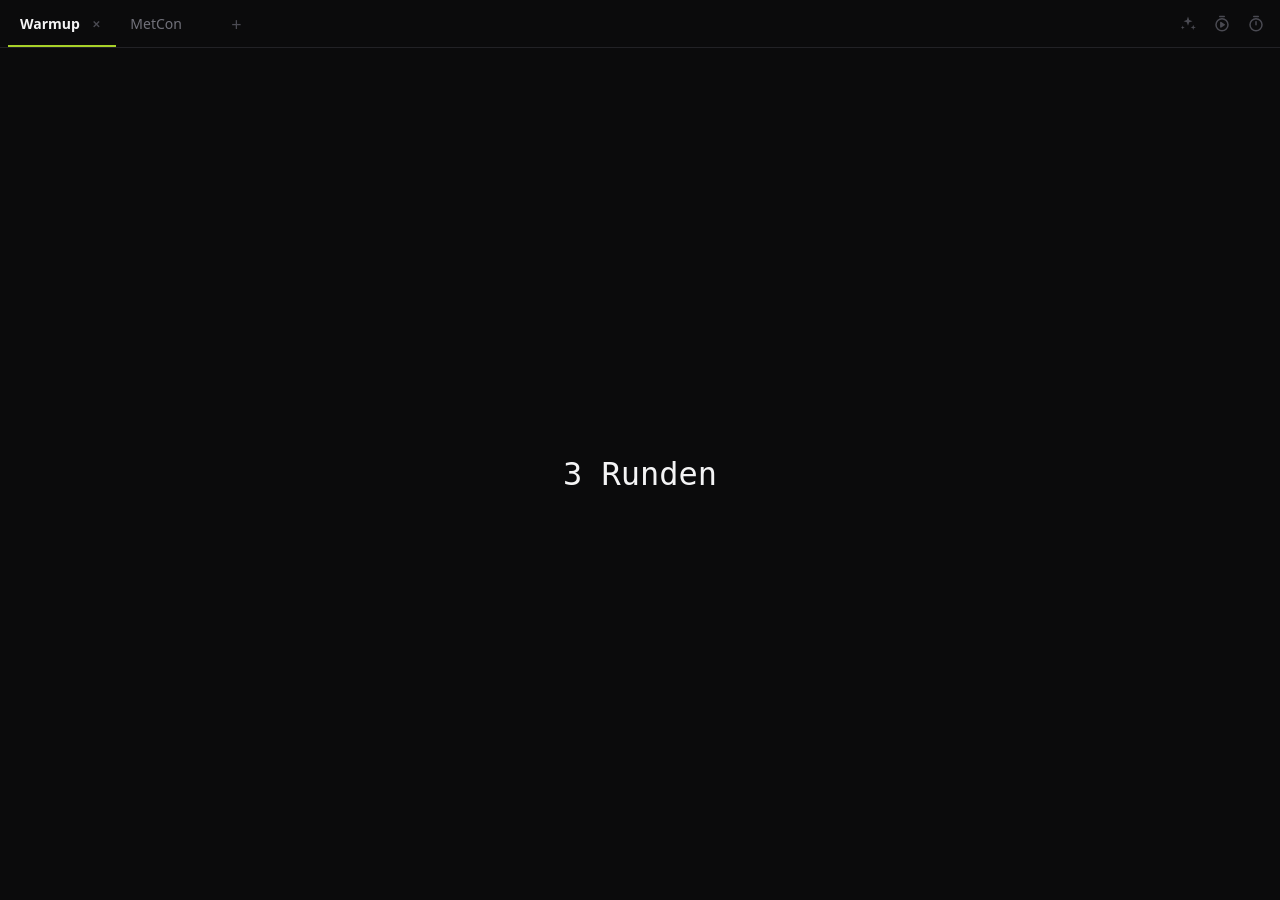
WorkoutEditor Dauer-Schätzung › zeigt eine Fehlermeldung im Popover bei Fehler-Status
Click the button named "Dauer schätzen" at (1256, 24), box [1240,8,1272,40]
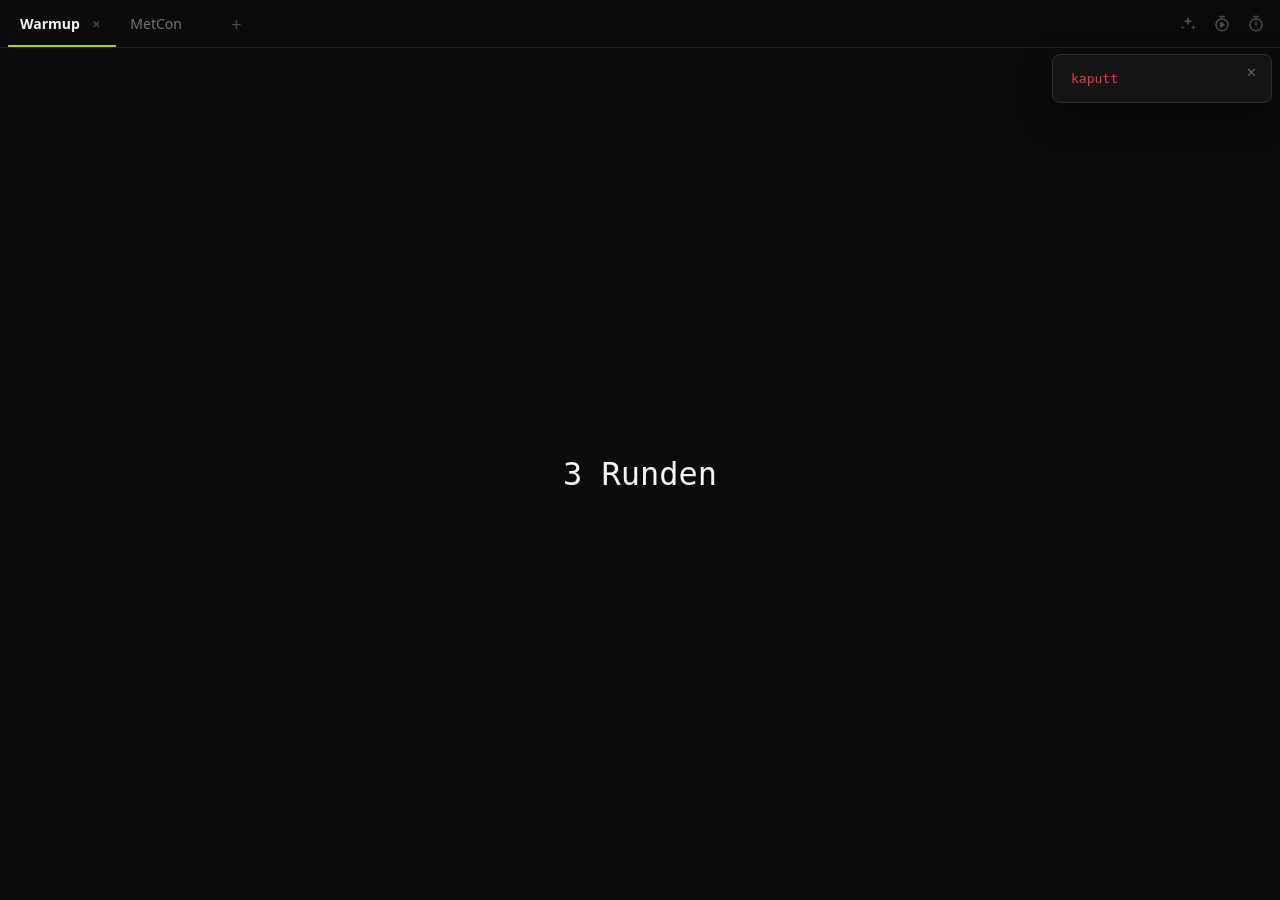
Expected: the text with class "estimate-error" reads "kaputt", [1071,71,1118,86]
